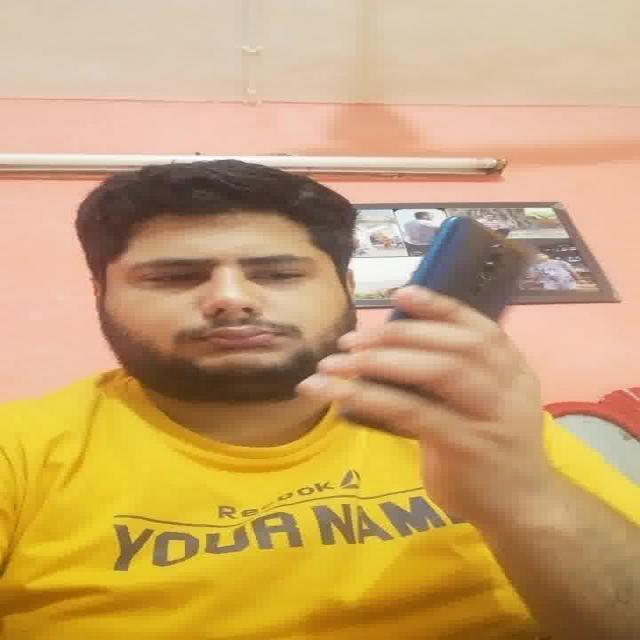phone: (385, 213, 527, 409)
